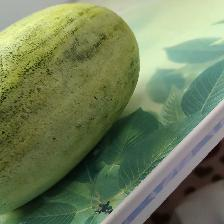gua: (23, 22, 107, 140)
